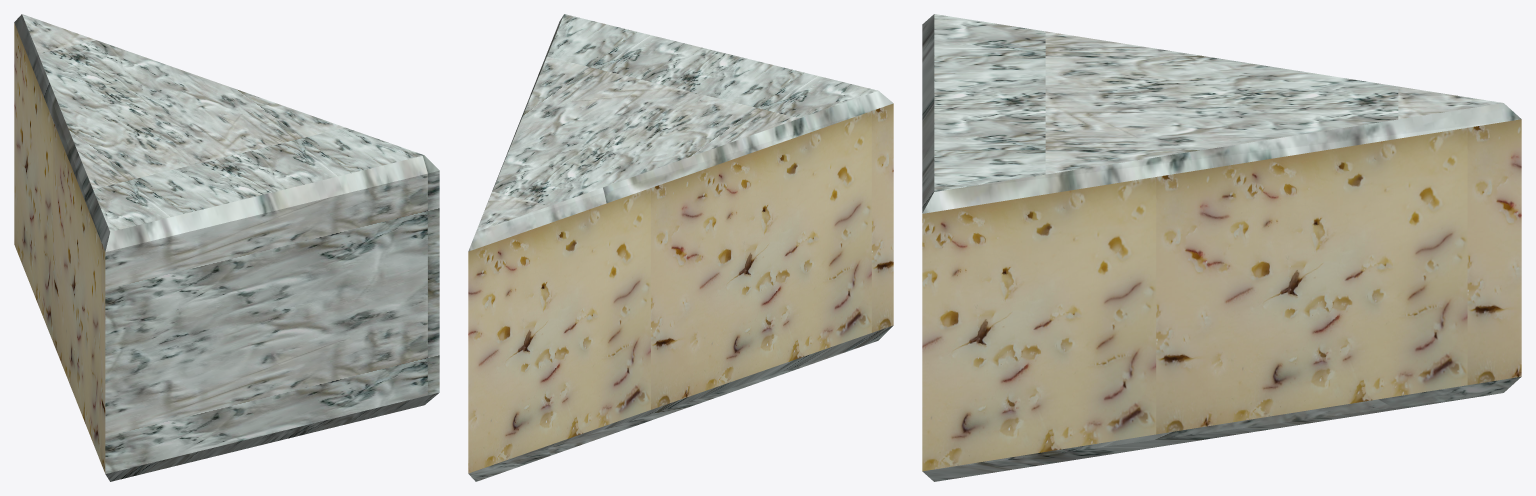
File: delicious-cheese.FBX
3 views of the same model, side by side, from view 1: azimuth 30°, elevation 25°; view 2: azimuth 150°, elevation 25°; view 3: azimuth 270°, elevation 25° (orthographic). The views are drawn at different scales.
Visible parts, largest first — view 1: Prism001; view 2: Prism001; view 3: Prism001.
Boxes of the visible parts, x1,y1,x2,y2 form: Prism001: (14, 14, 439, 481); Prism001: (468, 14, 893, 481); Prism001: (922, 14, 1521, 481).
Size of the model in its own units: 14 by 18.73 by 10.
2 materials, 2 textured.
